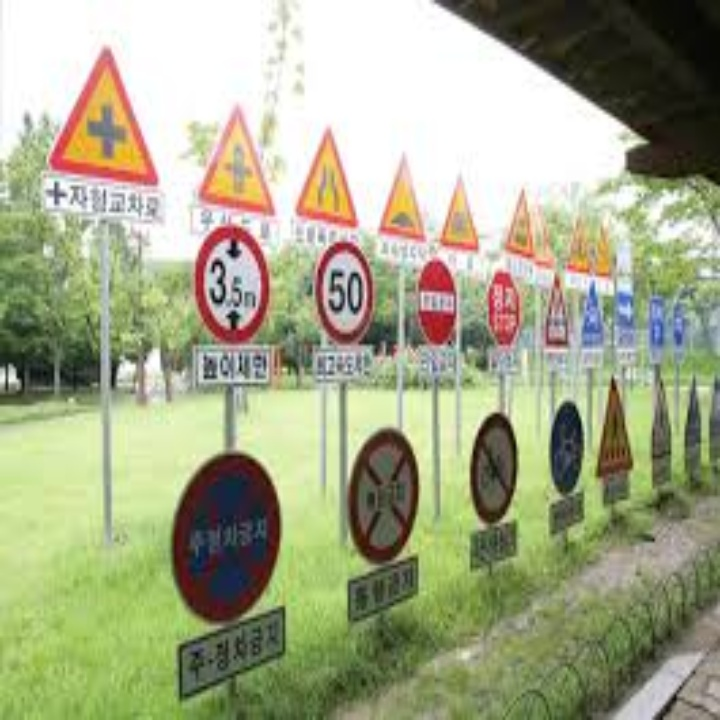inter: (78, 99, 133, 162)
